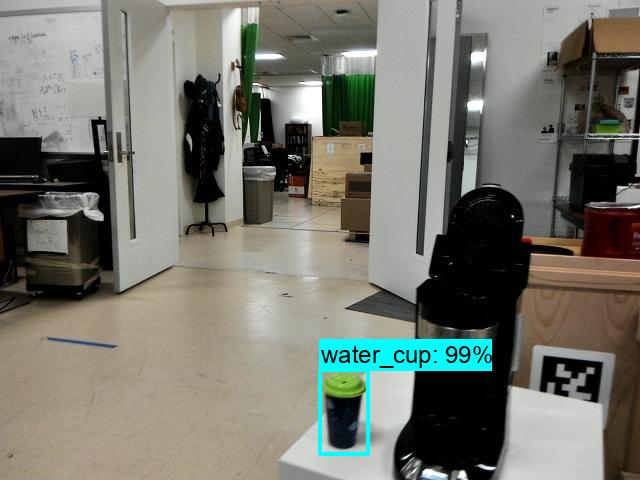water_cup: (321, 371, 370, 452)
